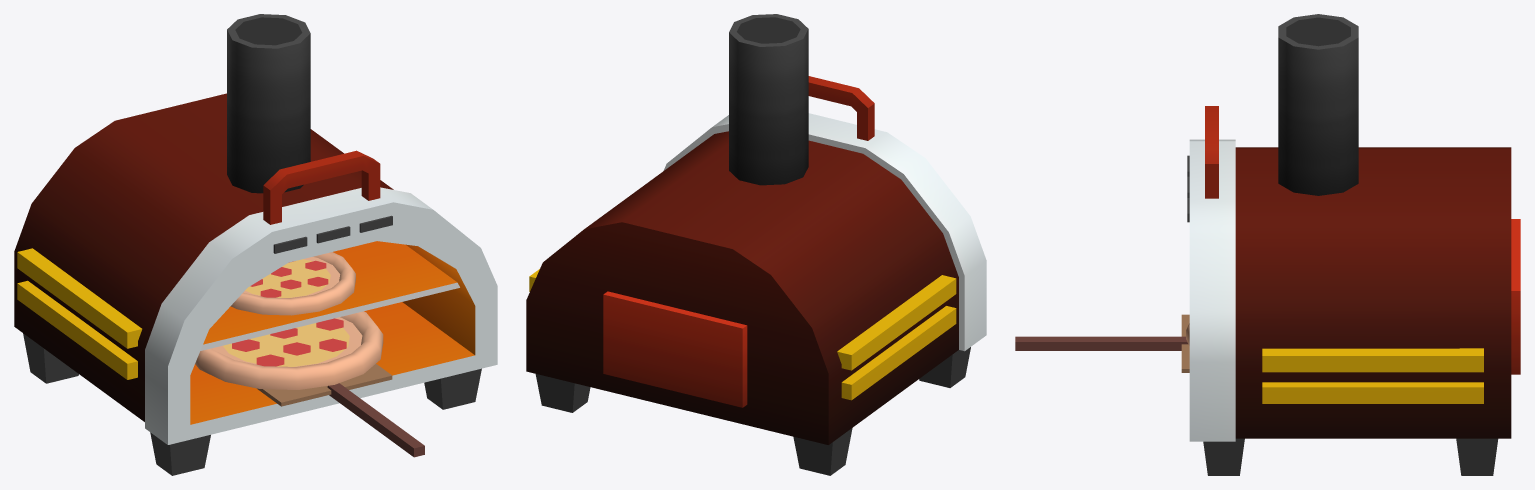
File: Decor_Beppizza.fbx
3 renders of one model, left to right at view 1: azimuth 30°, elevation 25°; view 2: azimuth 150°, elevation 25°; view 3: azimuth 270°, elevation 25°, orthographic. The views are drawn at different scales.
Visible parts, largest first — view 1: Decor_Beppizza; view 2: Decor_Beppizza; view 3: Decor_Beppizza.
Part boxes in pixels (left/top/right/bottom): Decor_Beppizza: left=14, top=14, right=497, bottom=475; Decor_Beppizza: left=526, top=14, right=986, bottom=475; Decor_Beppizza: left=1015, top=14, right=1520, bottom=475.
Size of the model in its own units: 121 by 126 by 156.
